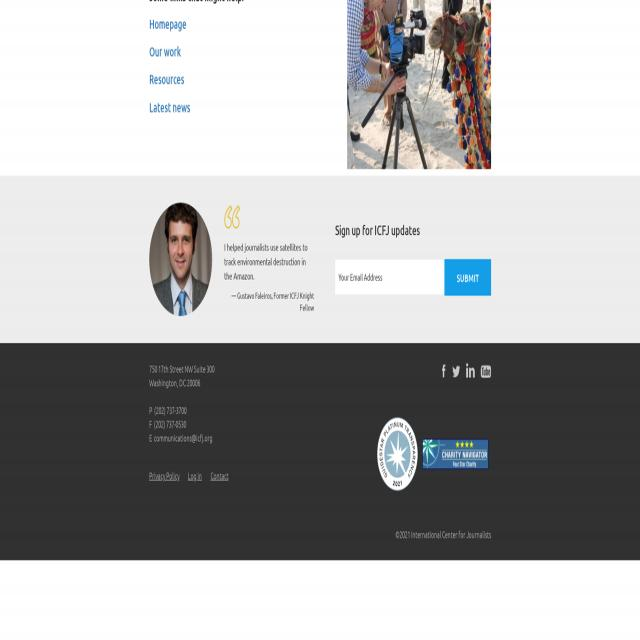button: (347, 0, 491, 170), (149, 204, 212, 317), (378, 419, 418, 493), (422, 440, 488, 471), (444, 260, 490, 298), (224, 207, 240, 230), (439, 364, 448, 380), (452, 364, 461, 380), (466, 364, 475, 380), (480, 367, 491, 379)
field: (335, 260, 445, 296)
